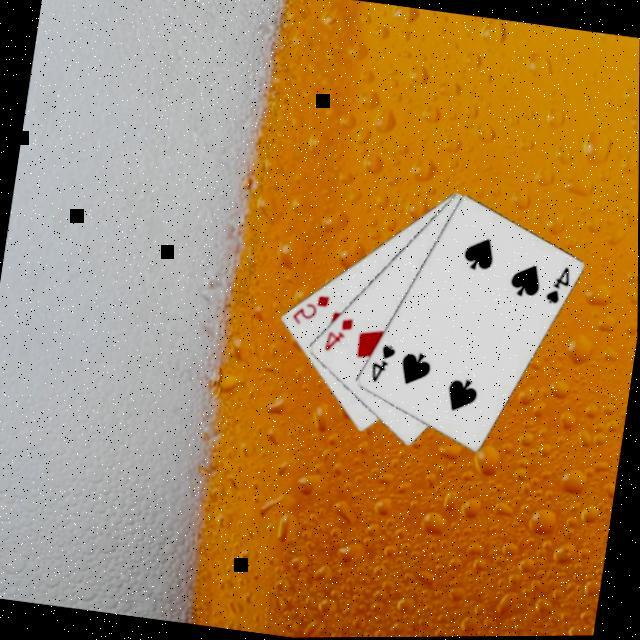4D: (319, 310, 356, 356)
4S: (365, 338, 399, 386), (540, 260, 574, 308)
5D: (288, 286, 332, 330)
